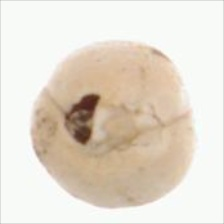L3: (61, 93, 145, 154)
L4: (29, 39, 198, 209)
